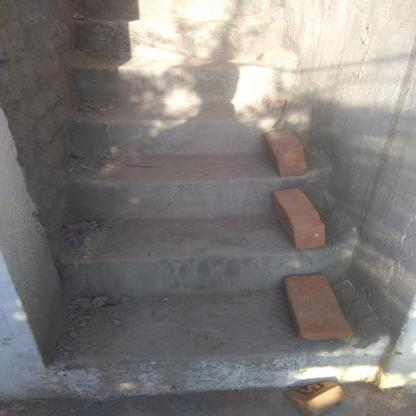stair: (47, 0, 389, 401)
